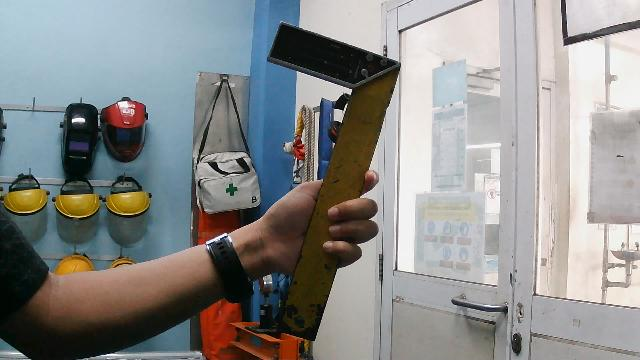penggaris_siku: (262, 13, 410, 349)
